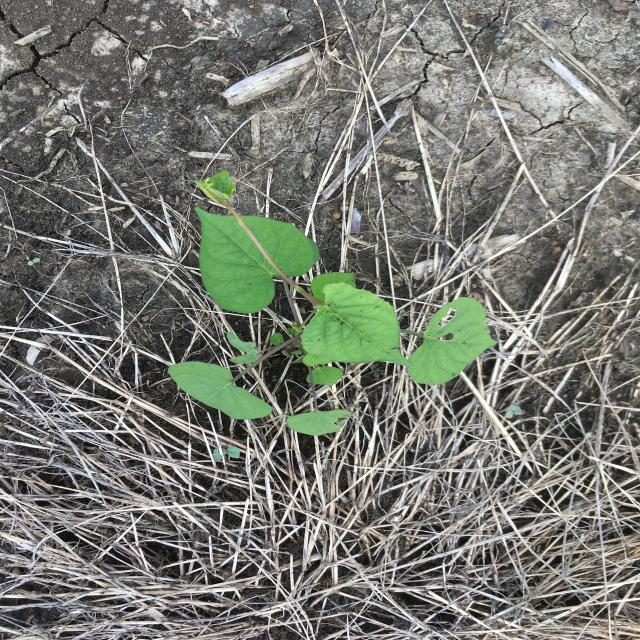MorningGlory: (166, 170, 504, 440)
